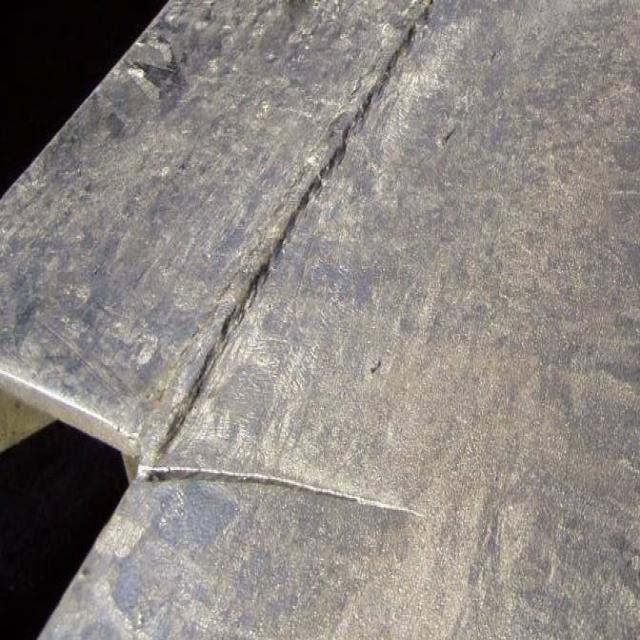Dry Waste: (165, 0, 466, 382), (119, 423, 389, 595)
